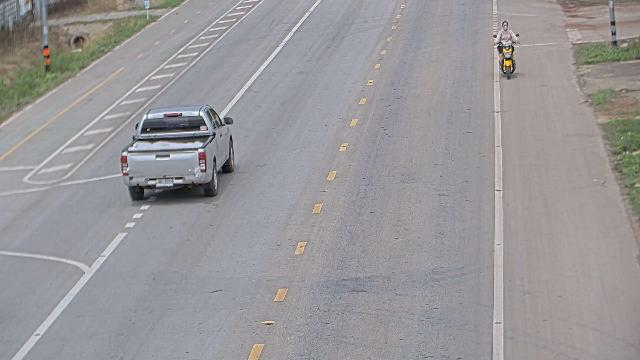motorcycle: (490, 29, 518, 79)
pickup-truck: (119, 104, 235, 201)
